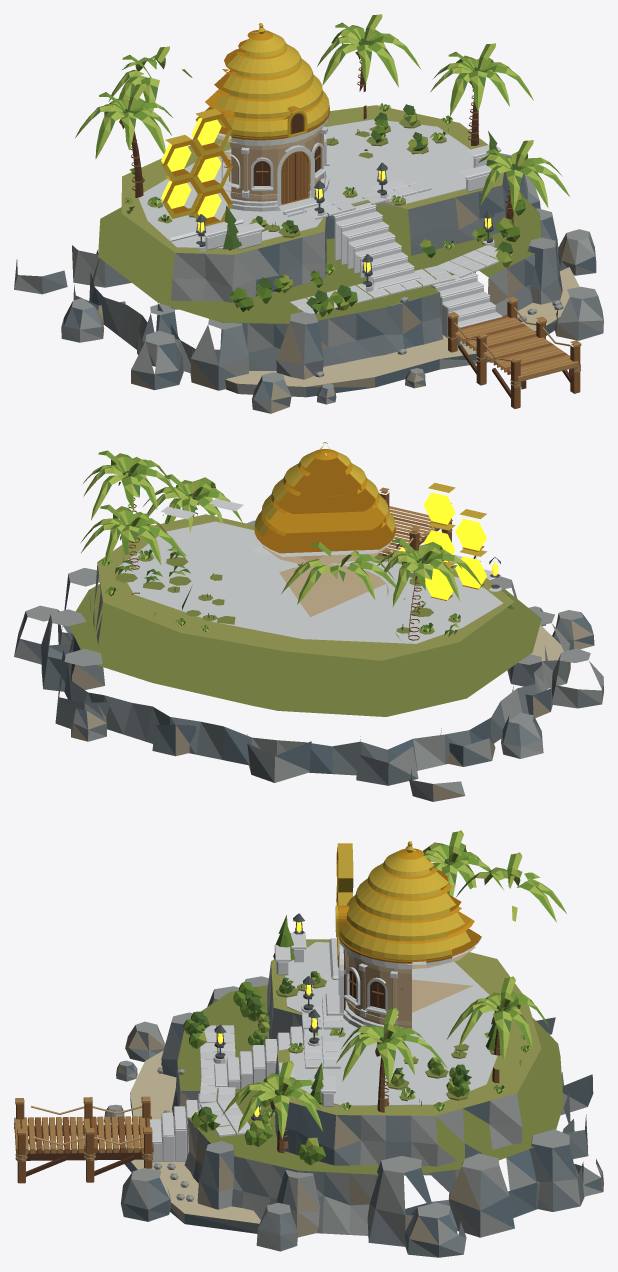
Rendered from foundry.glb.
3 views of the same model, one above another, from view 1: azimuth 30°, elevation 25°; view 2: azimuth 150°, elevation 25°; view 3: azimuth 270°, elevation 25° (orthographic). The views are drawn at different scales.
Visible parts, largest first — view 1: Batch | BeeSigned_Root, BeeSigned | Honeycomb cells | honey glass; view 2: Batch | BeeSigned_Root, BeeSigned | Honeycomb cells | honey glass; view 3: Batch | BeeSigned_Root.
Boxes of the visible parts, x1,y1,x2,y2 form: Batch | BeeSigned_Root: (14,14,603,413); BeeSigned | Honeycomb cells | honey glass: (161,118,221,218); Batch | BeeSigned_Root: (14,442,603,801); BeeSigned | Honeycomb cells | honey glass: (423,492,486,600); Batch | BeeSigned_Root: (14,830,603,1257).
Bounding box in the file's own units: 17.64 × 9.02 × 17.51.
